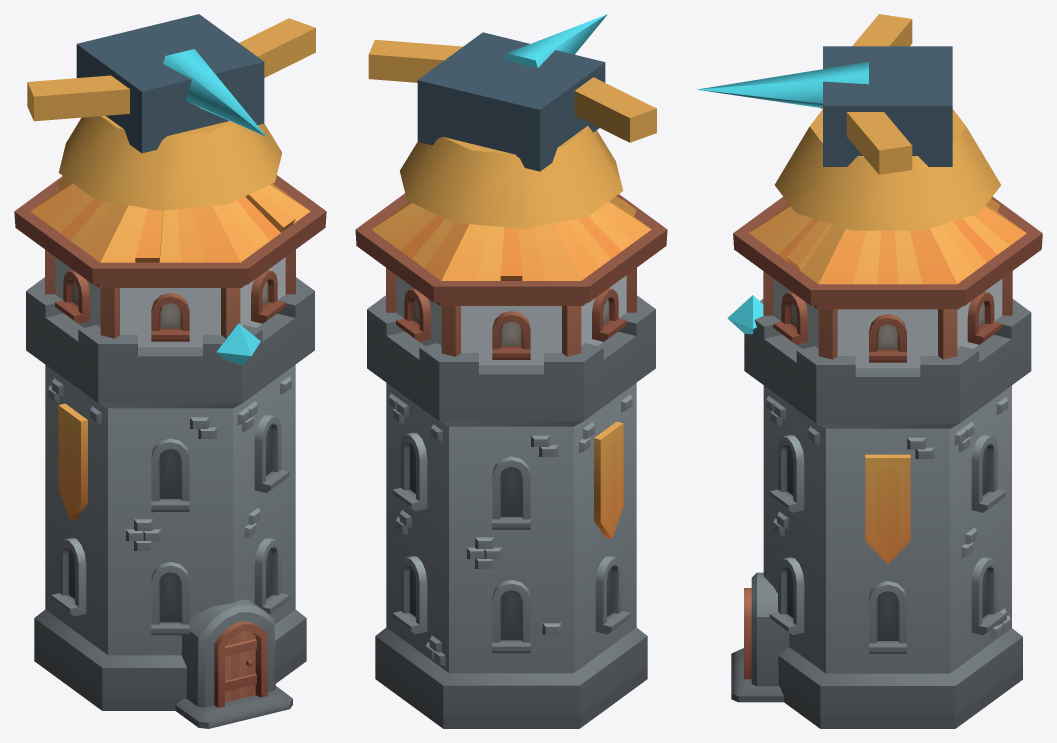
The model's file is tower_lightning_l1.glb.
3 renders of one model, left to right at view 1: azimuth 30°, elevation 25°; view 2: azimuth 150°, elevation 25°; view 3: azimuth 270°, elevation 25°, orthographic.
Parts seen in each view (by area): view 1: Base, building_tower_A_top_yellow, BarrelAssembly, Turret; view 2: Base, building_tower_A_top_yellow, BarrelAssembly, Turret; view 3: Base, building_tower_A_top_yellow, BarrelAssembly, Turret.
Part boxes in pixels (<box>): Base: <box>26,277,314,728</box>; building_tower_A_top_yellow: <box>14,175,326,347</box>; BarrelAssembly: <box>27,14,315,153</box>; Turret: <box>58,115,282,210</box>; Base: <box>367,295,655,728</box>; building_tower_A_top_yellow: <box>355,193,667,365</box>; BarrelAssembly: <box>368,14,656,171</box>; Turret: <box>400,126,623,228</box>; Base: <box>727,295,1031,728</box>; building_tower_A_top_yellow: <box>733,196,1042,368</box>; BarrelAssembly: <box>697,14,952,174</box>; Turret: <box>774,109,1000,230</box>.
Bounding box in the file's own units: 1.2 × 2.49 × 1.28.
Materials: 4 (1 with a texture image).
